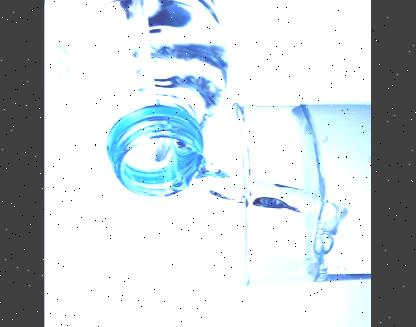Plastic Bottle: (44, 0, 232, 197)
